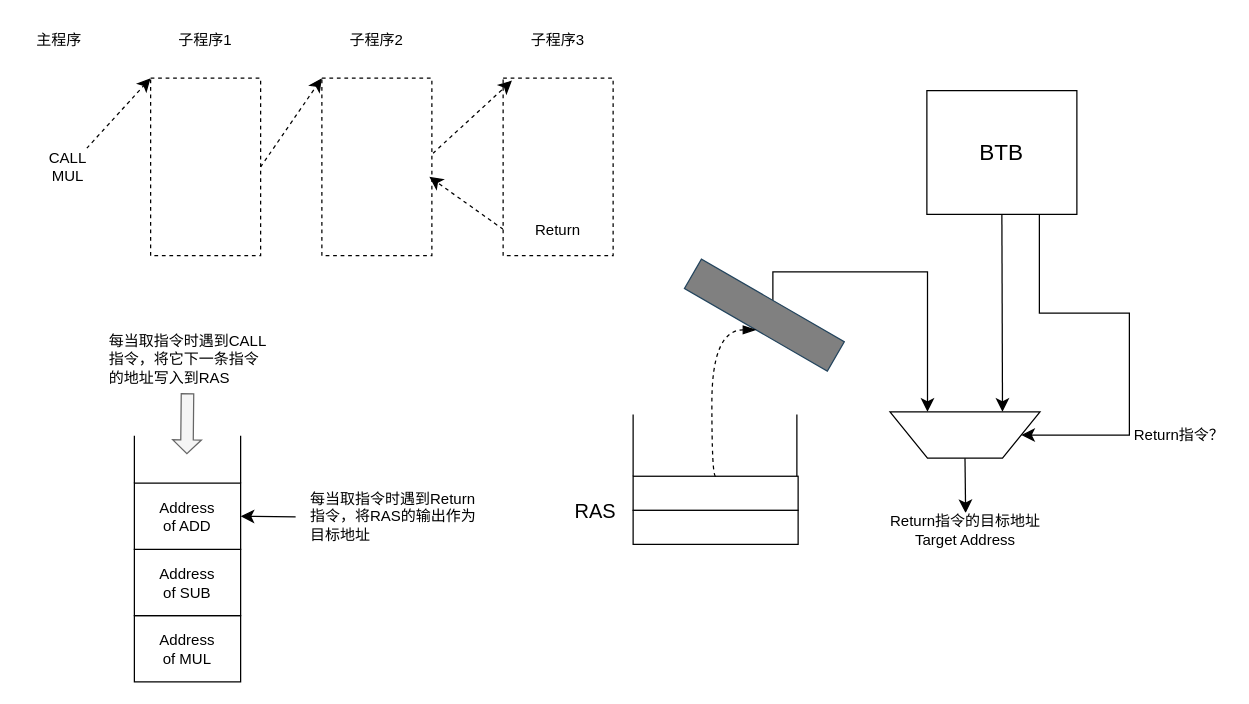
This 1249x704 diagram has some shape labels left out. Each missing label, with the centre of its shape:
CALL ADD Return: (x=376, y=166)
CALL SUB Return: (x=205, y=166)
